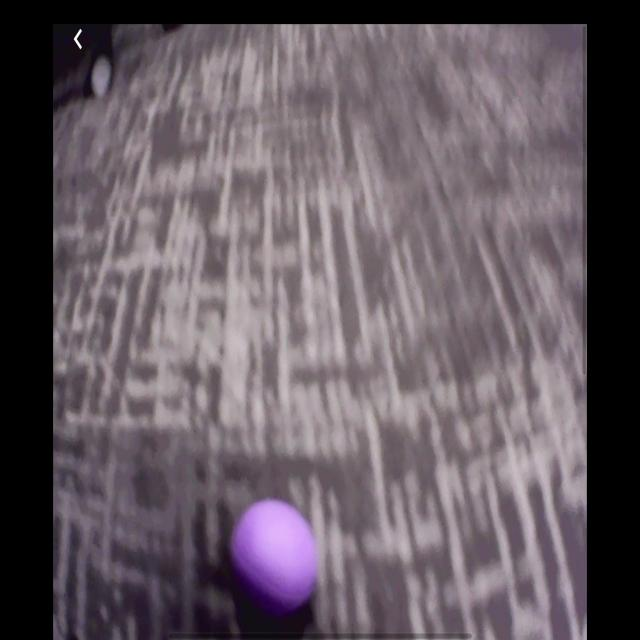ball: (229, 498, 320, 615)
